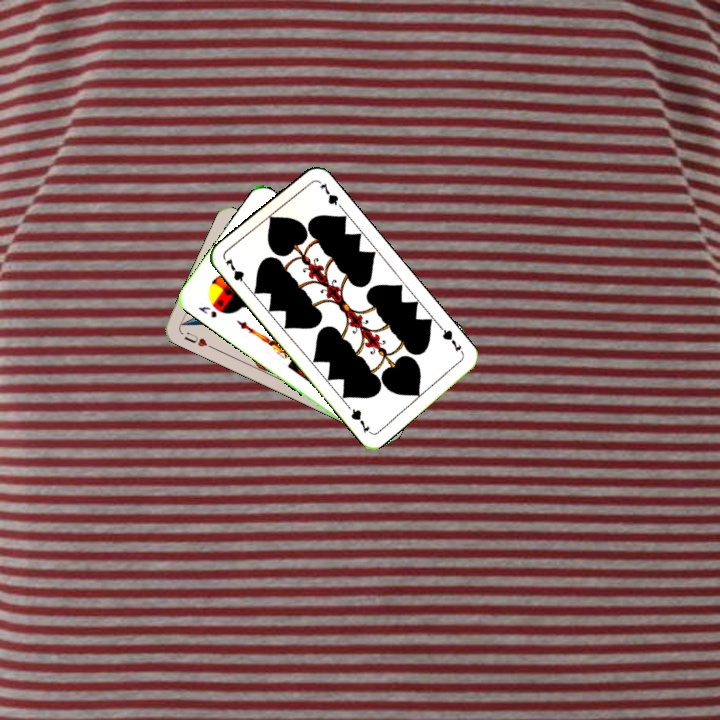G7: (221, 254, 251, 291), (436, 323, 466, 357)
HU: (180, 328, 210, 349)
SK: (194, 302, 219, 320)
